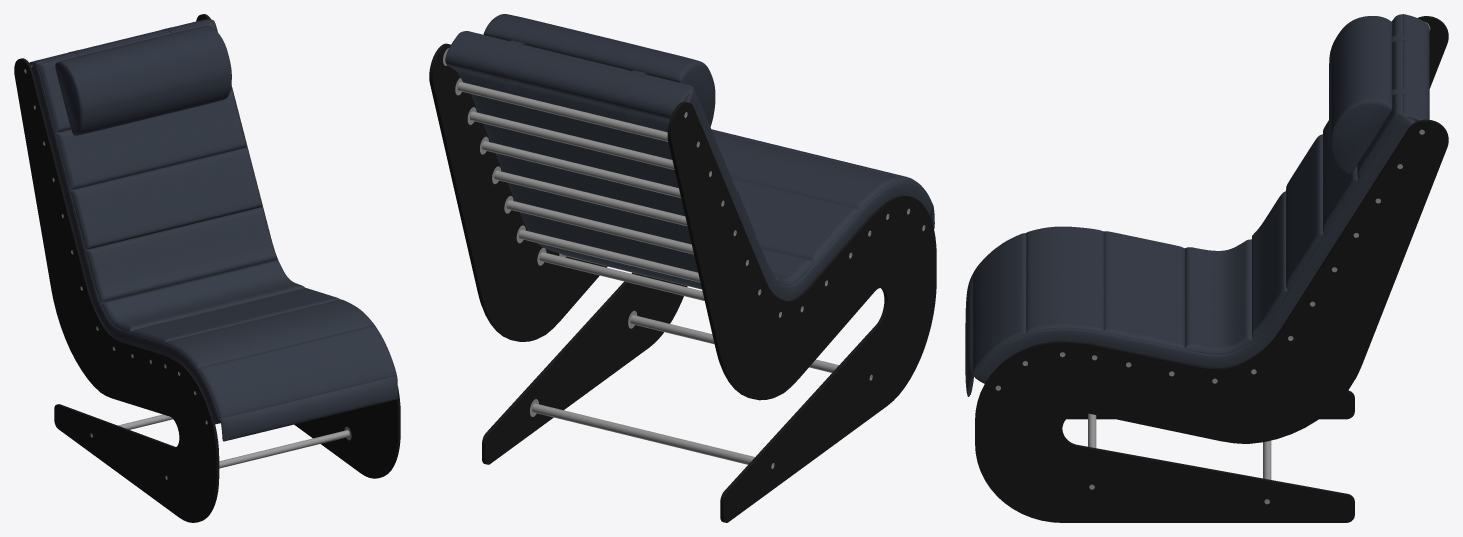
Rendered from angel-poltrona-clun-291.glb.
3 renders of one model, left to right at view 1: azimuth 30°, elevation 25°; view 2: azimuth 150°, elevation 25°; view 3: azimuth 270°, elevation 25°, orthographic. The views are drawn at different scales.
Visible parts, largest first — view 1: angel-seduta, angel-struttura, angel-tubolare; view 2: angel-struttura, angel-seduta, angel-tubolare; view 3: angel-struttura, angel-seduta, angel-tubolare.
Part boxes in pixels (x1,y1,x2,y2): angel-seduta: (29,19,397,441); angel-struttura: (14,14,400,522); angel-tubolare: (24,66,351,479); angel-struttura: (429,43,936,522); angel-seduta: (445,14,934,300); angel-tubolare: (443,48,925,468); angel-struttura: (975,16,1448,522); angel-seduta: (965,14,1429,396); angel-tubolare: (995,22,1430,504).
Size of the model in its own units: 0.5685 by 1.04 by 1.1.
Materials: 3 (1 with a texture image).
